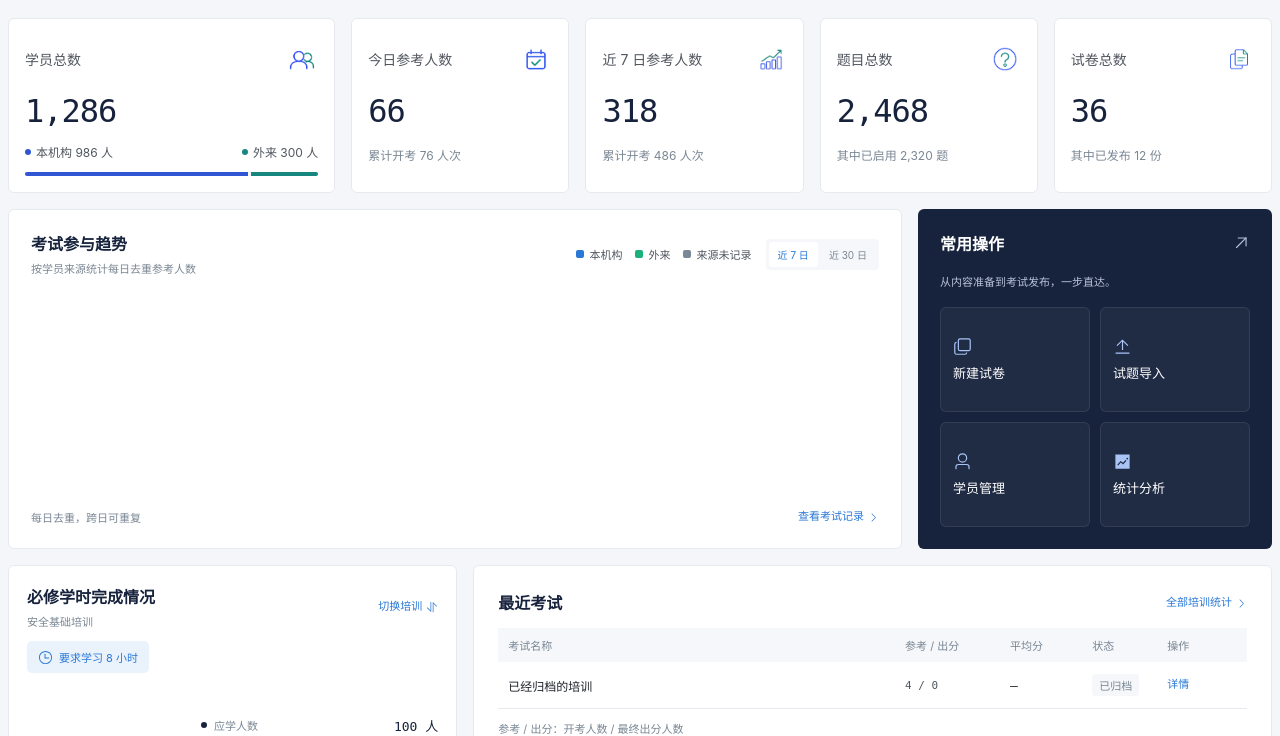
Test case: admin operations dashboard › searches and paginates candidates without losing a selection outside the page
The image size is (1280, 736).
Click the button with aria-label "切换必修培训": click(408, 606) [378,598,438,615]
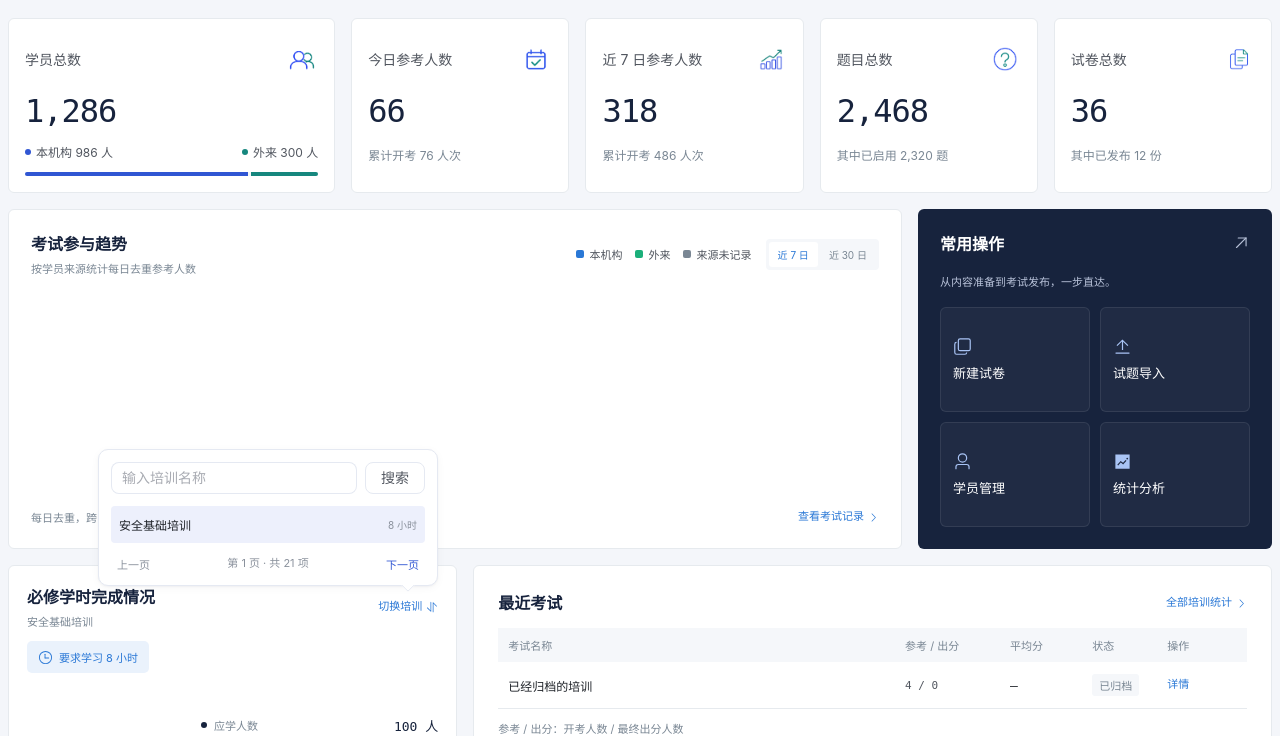
Click the button "下一页": click(402, 564) [380,555,425,573]
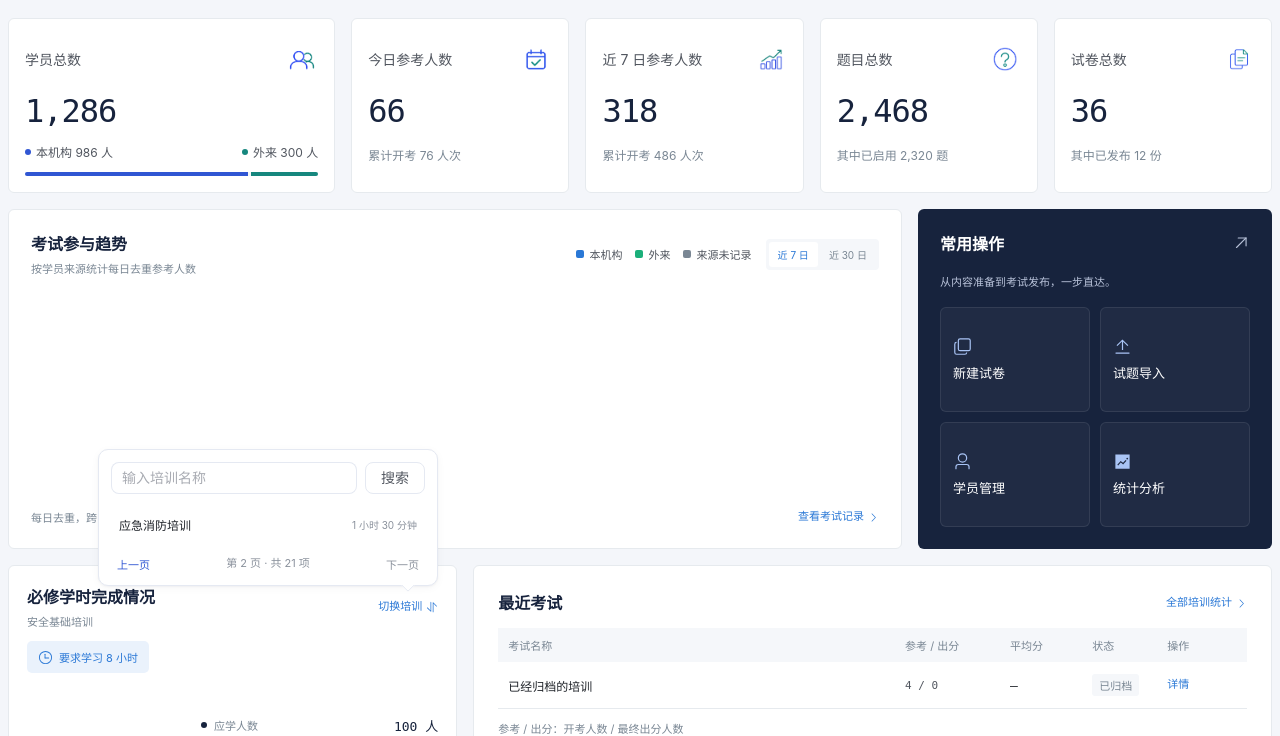
Expected: the element with test id "dashboard-learning" shows "安全基础培训", [27,614,93,628]
In the field with placeholder "输入培训名称": (234, 478) [122,463,346,493], type "消防"
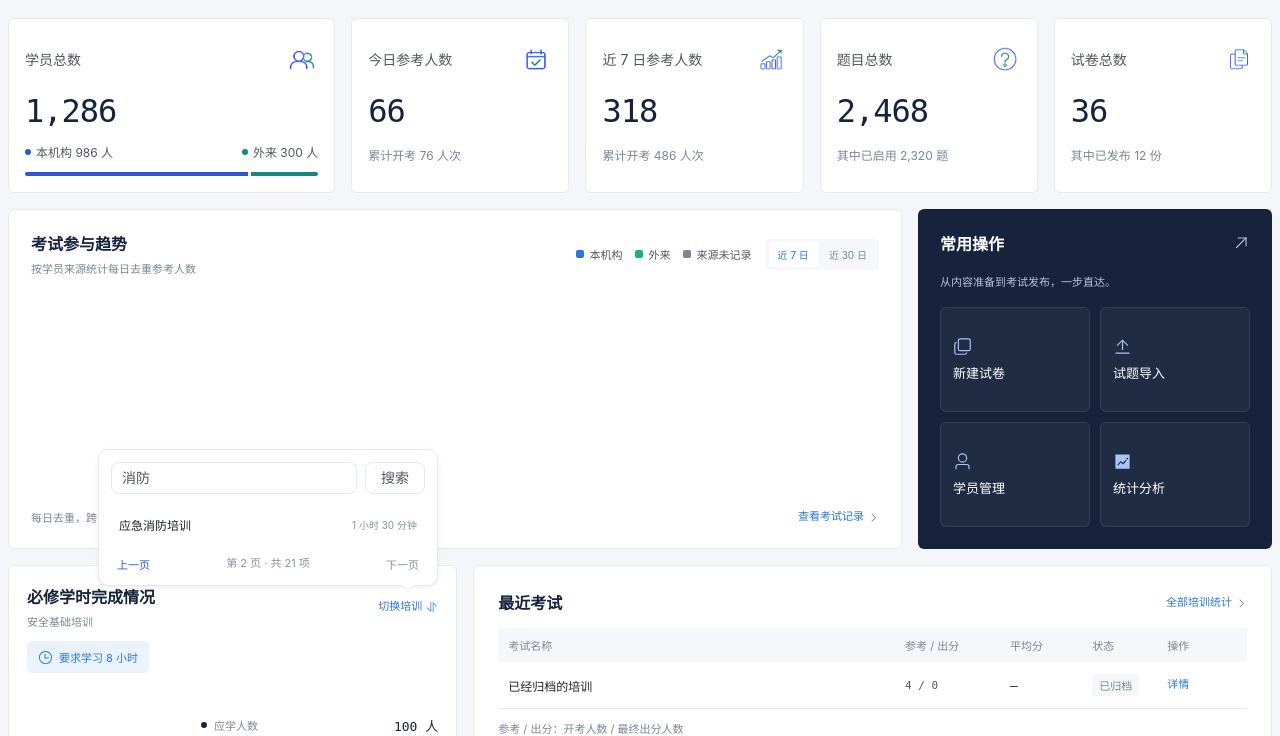
Submit the form, box [111,462,425,494]
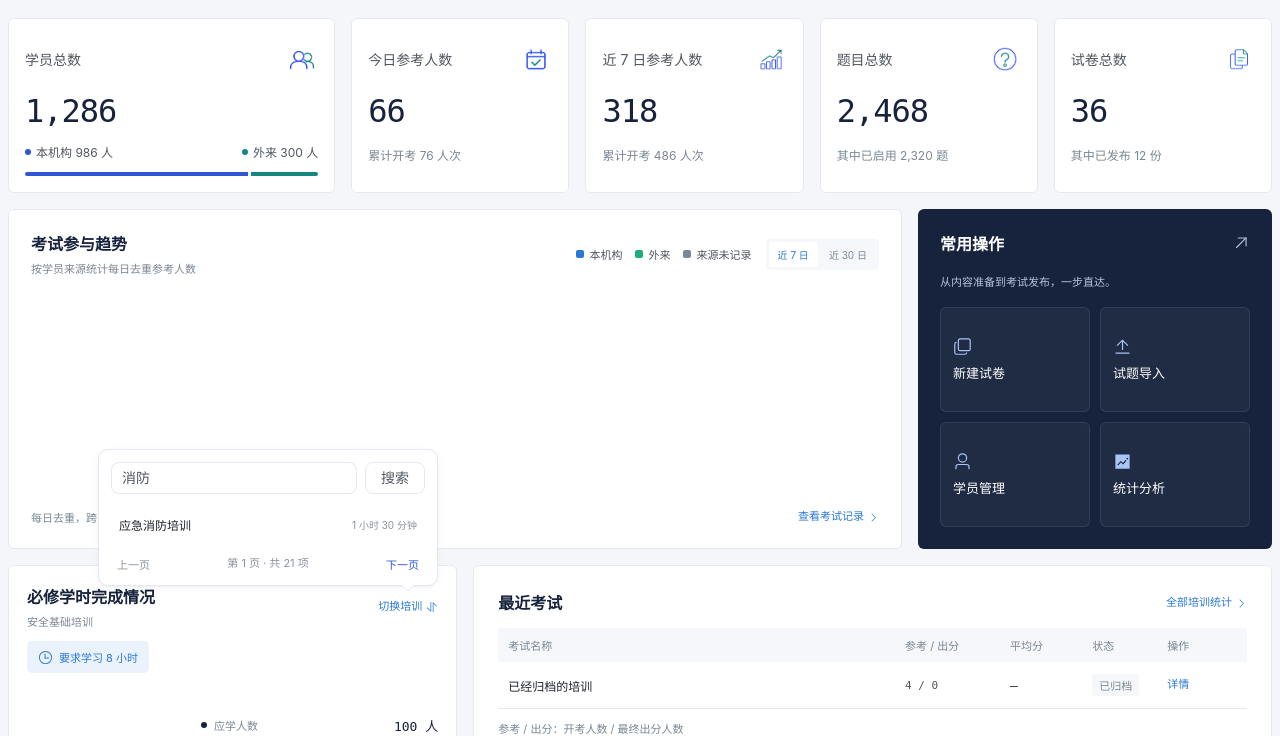
Click the button titled "应急消防培训": click(155, 526) [111,506,425,543]
(page scrolled)
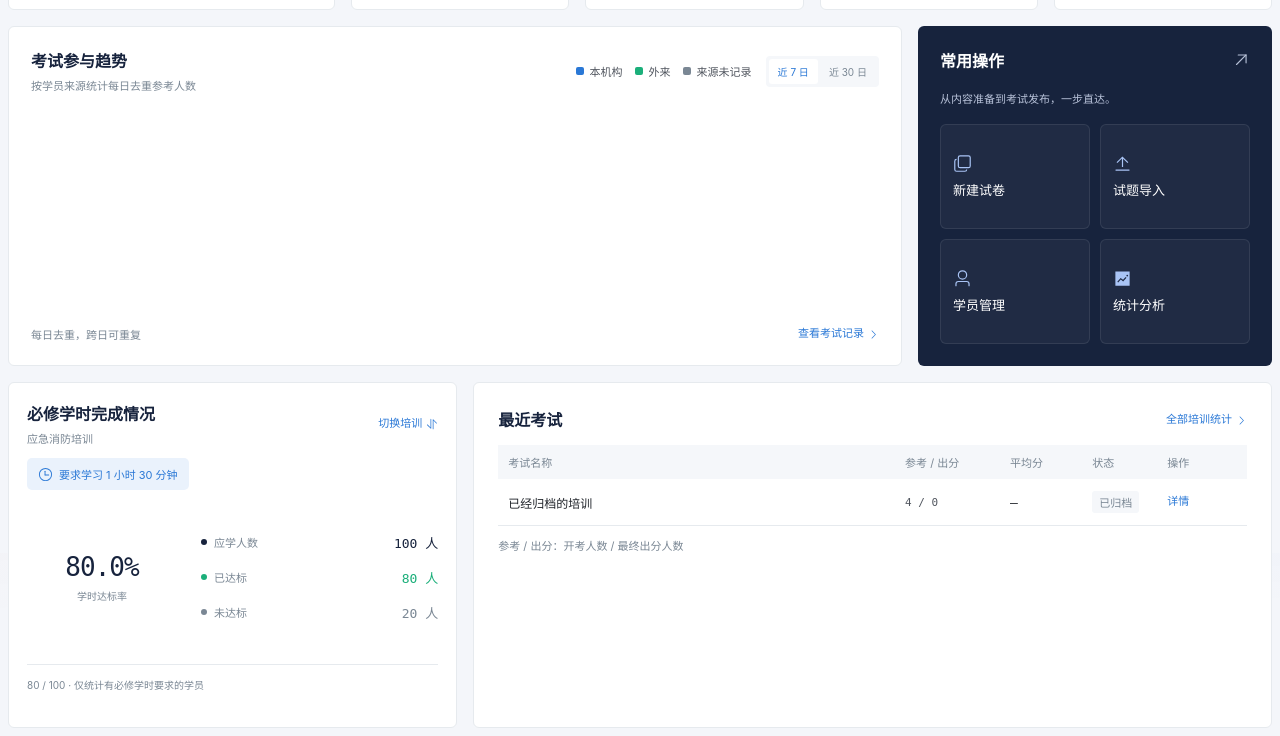
Expected: the element with test id "dashboard-learning" shows "应急消防培训", [27,432,93,446]
Expected: the element with test id "dashboard-learning" shows "1 小时 30 分钟", [59,468,178,482]
